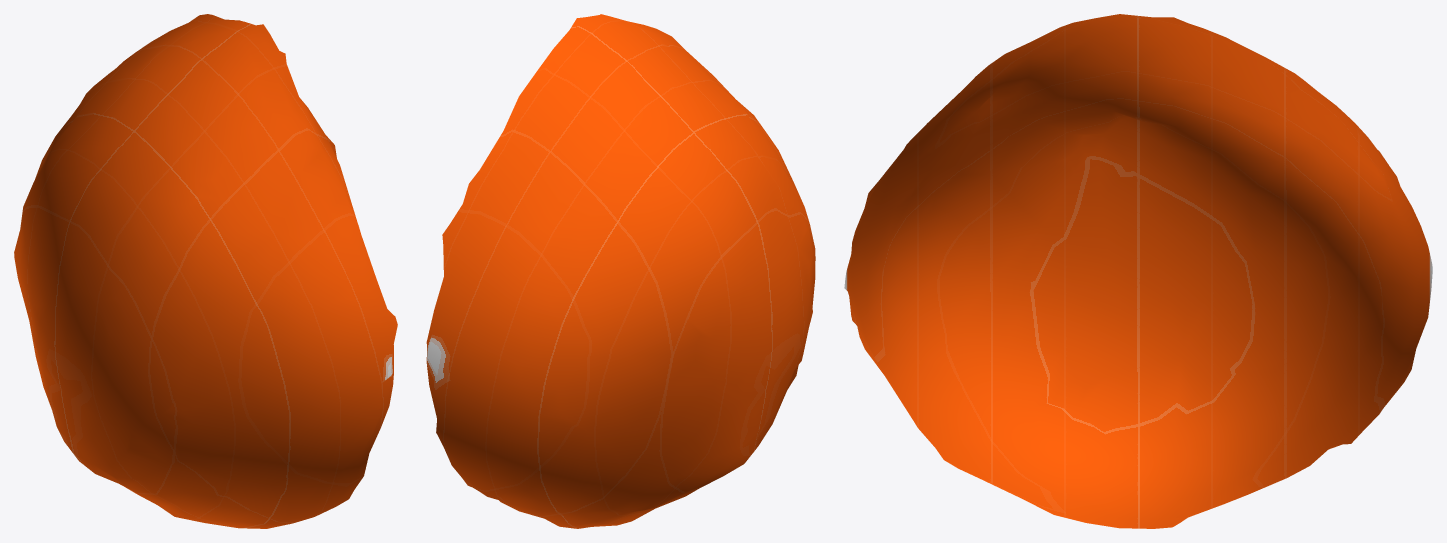
3 renders of one model, left to right at view 1: azimuth 30°, elevation 25°; view 2: azimuth 150°, elevation 25°; view 3: azimuth 270°, elevation 25°, orthographic. The views are drawn at different scales.
Visible parts, largest first — view 1: Renderer Node; view 2: Renderer Node; view 3: Renderer Node.
Boxes of the visible parts, <box> form: Renderer Node: <box>14,14,397,528</box>; Renderer Node: <box>426,14,815,528</box>; Renderer Node: <box>844,14,1432,528</box>.
Bounding box in the file's own units: 0.295 × 0.6219 × 0.6372.
Materials: 1 (1 with a texture image).
